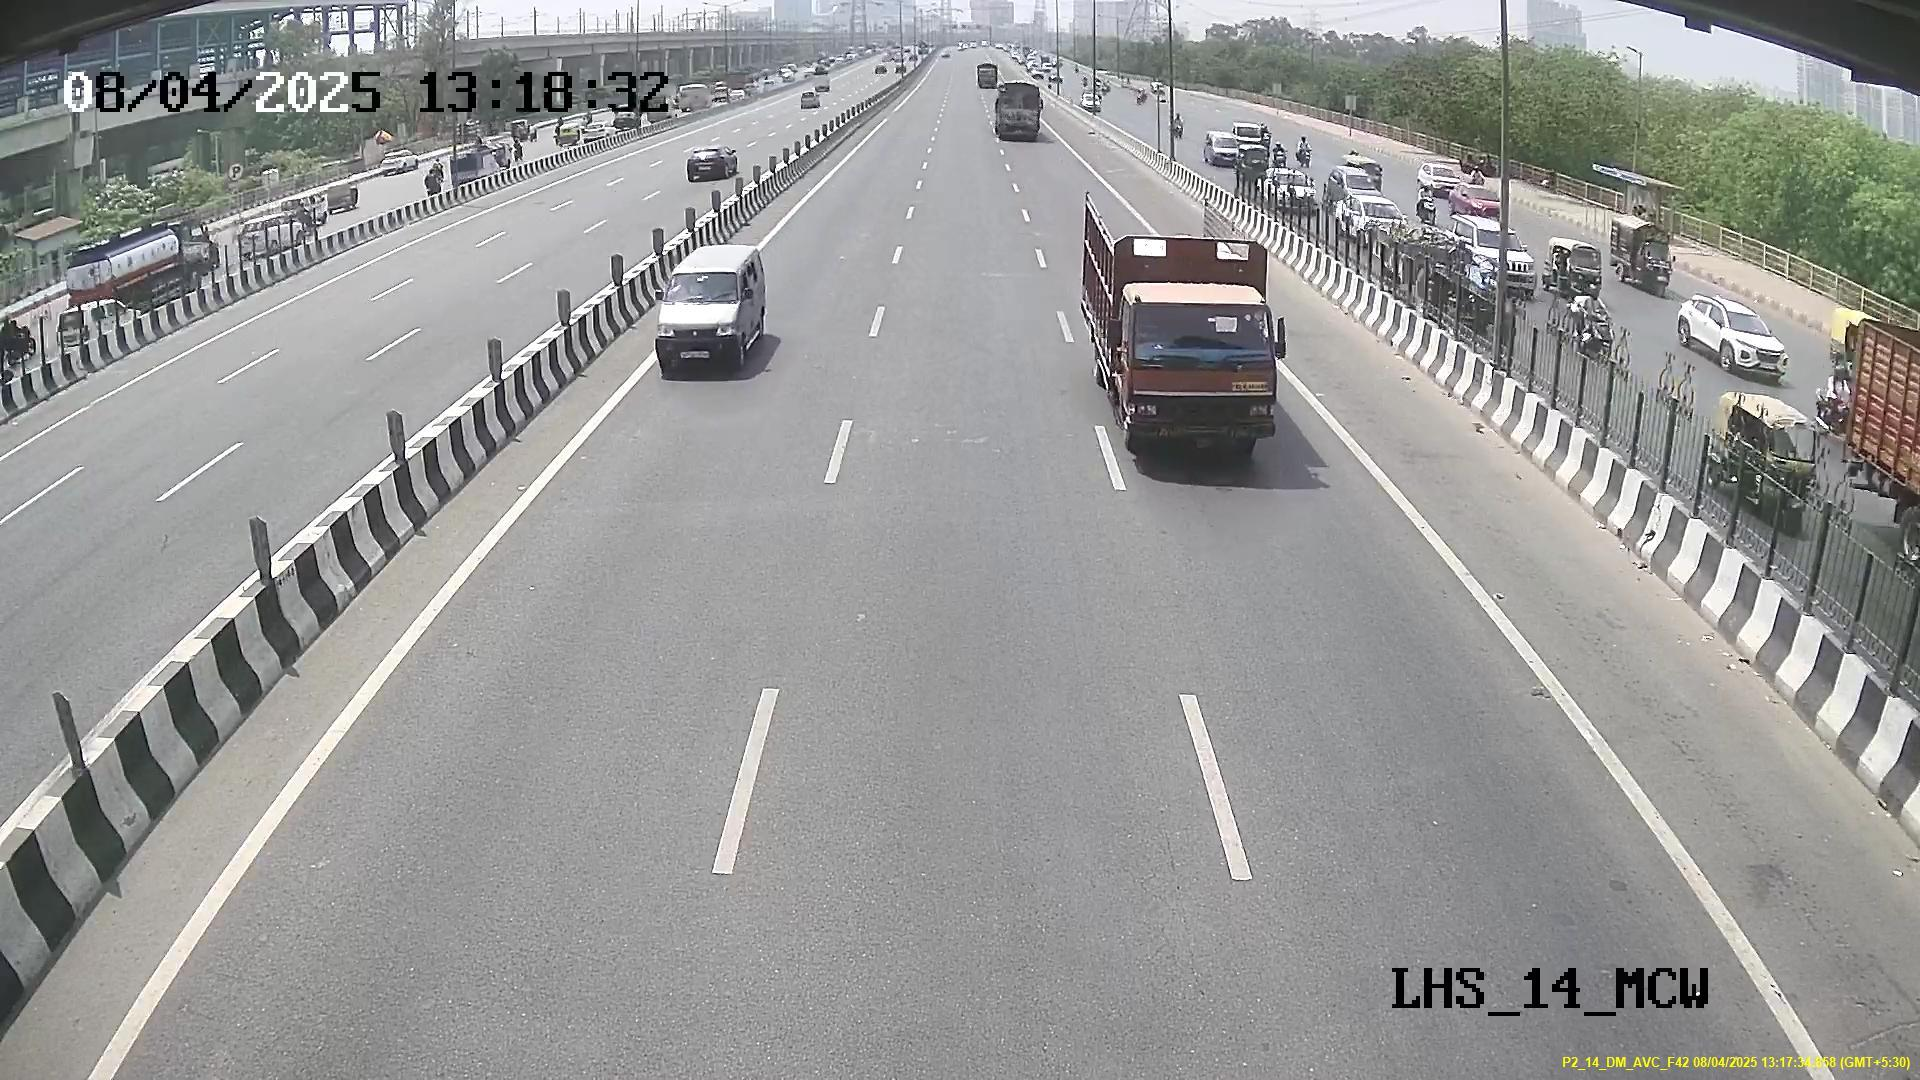car: (650, 253, 761, 375)
lcv: (1121, 289, 1283, 456)
